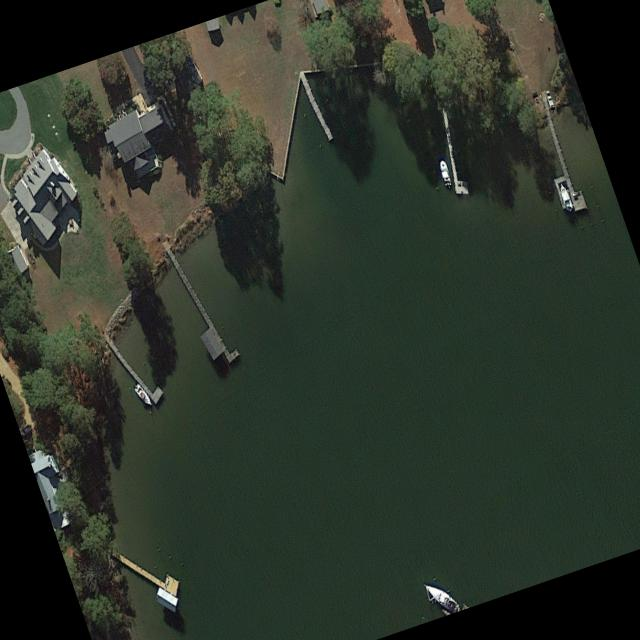ship: (133, 381, 154, 409), (557, 182, 574, 212), (438, 159, 451, 185), (20, 422, 33, 436)
